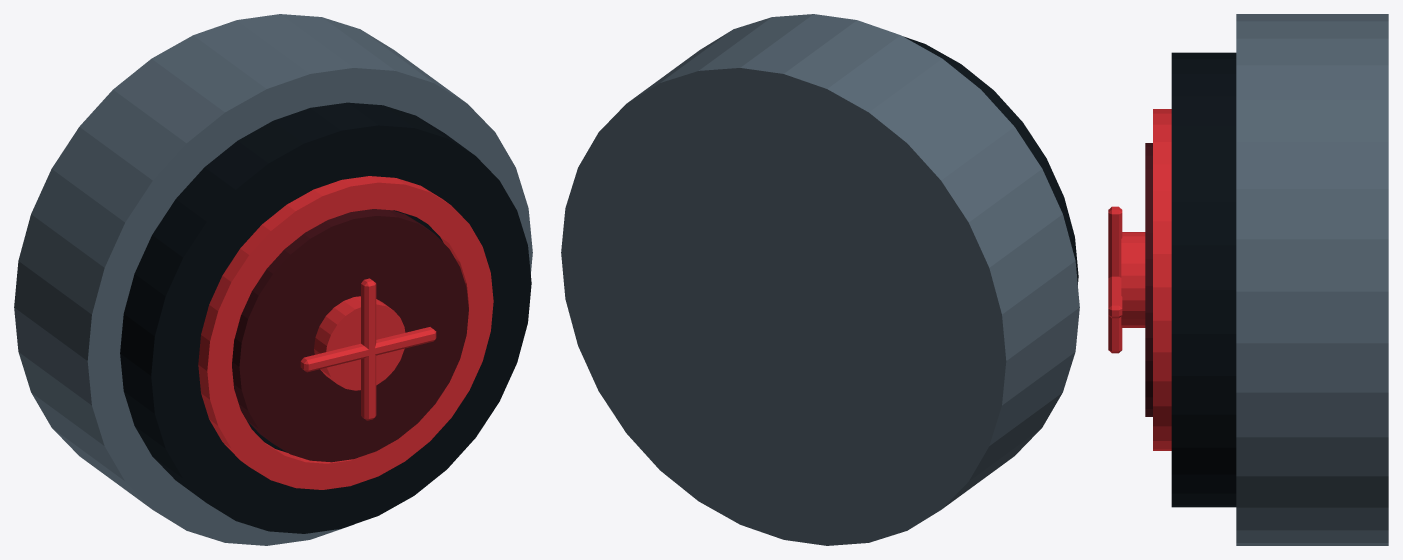
The model's file is 07_sensor.obj.
3 views of the same model, side by side, from view 1: azimuth 30°, elevation 25°; view 2: azimuth 150°, elevation 25°; view 3: azimuth 270°, elevation 25° (orthographic). The views are drawn at different scales.
Parts seen in each view (by area): view 1: fragment_07_sensor; view 2: fragment_07_sensor; view 3: fragment_07_sensor.
Boxes of the visible parts, <box> form: fragment_07_sensor: <box>14,14,532,545</box>; fragment_07_sensor: <box>561,14,1079,545</box>; fragment_07_sensor: <box>1108,14,1388,545</box>.
Size of the model in its own units: 0.454 by 0.454 by 0.239.
